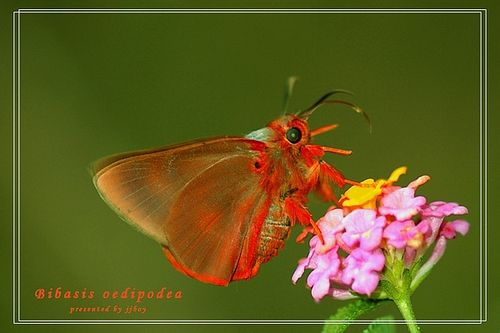Hesperiidae: (86, 80, 378, 289)
